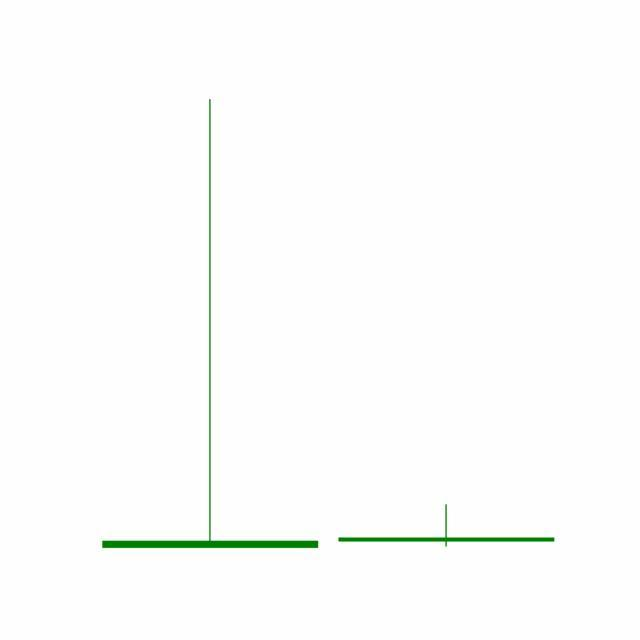Gravestone Doji: (328, 504, 566, 549)
